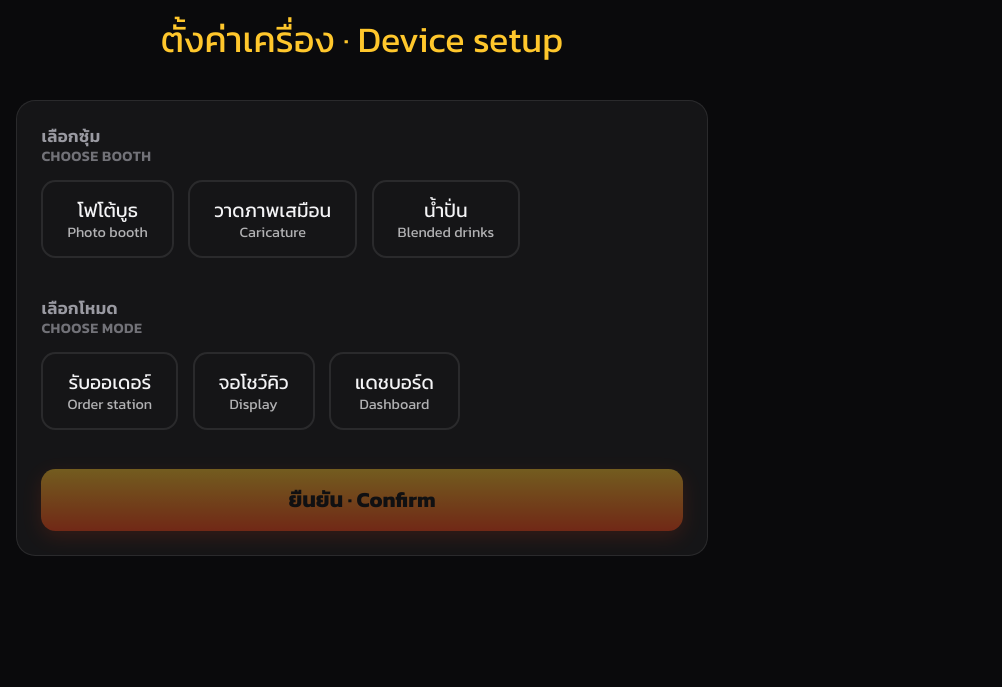
Test: dashboard mode shows the PIN gate
Click the button "โฟโต้บูธ Photo booth" at x=108, y=219, box [41,180,174,258]
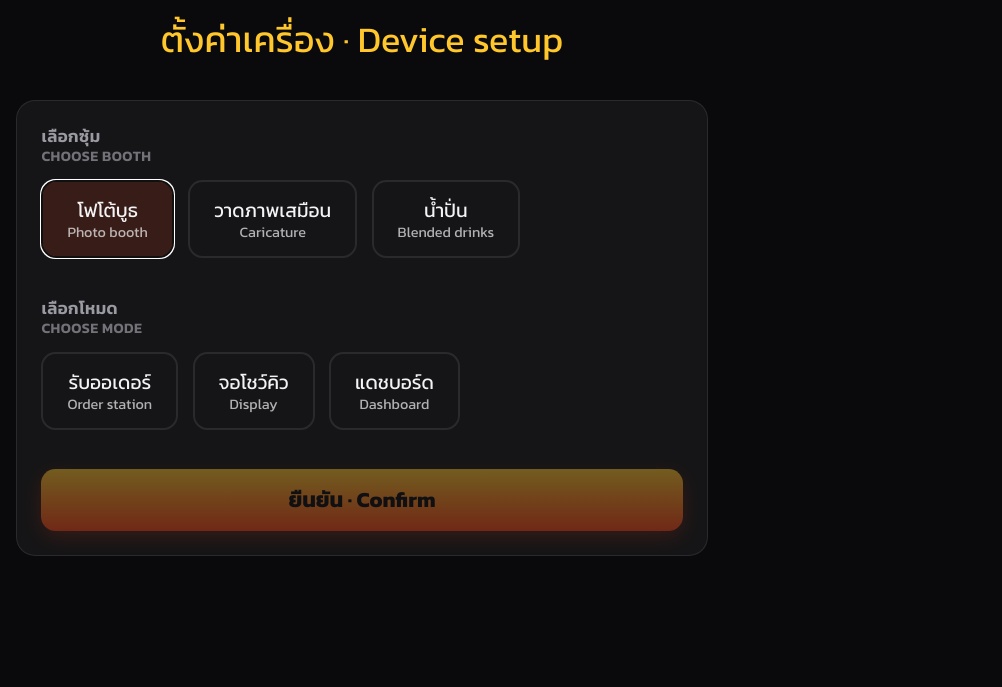
Click the button "แดชบอร์ด Dashboard" at x=394, y=391, box [329,352,460,430]
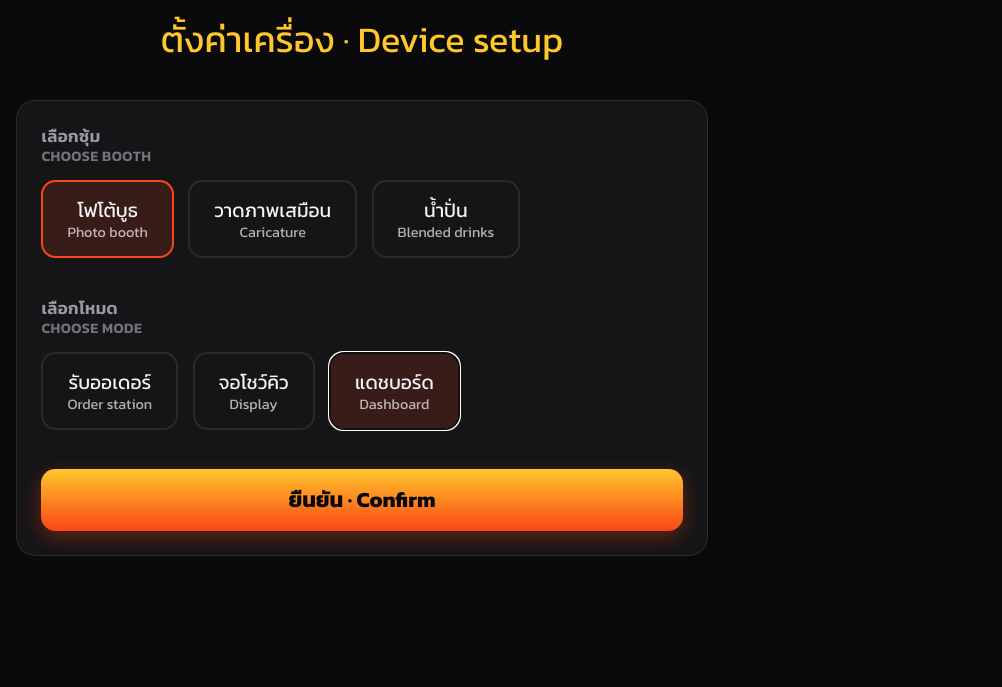
Click the button "ยืนยัน · Confirm" at x=362, y=500, box [41,469,683,531]
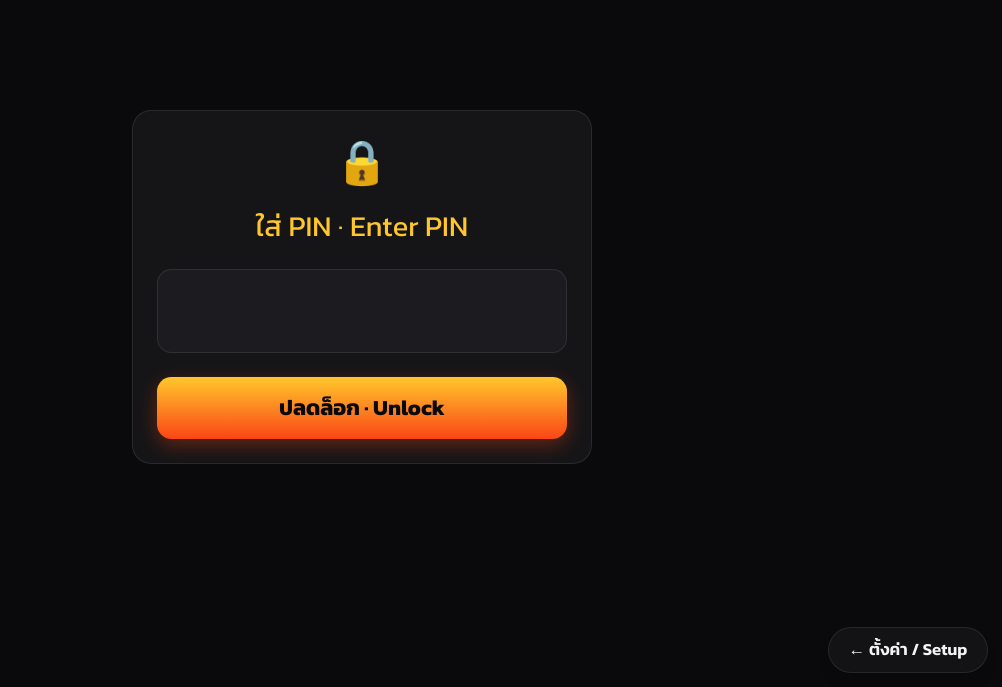
Now the heading "ใส่ PIN · Enter PIN" is shown, box [256,207,468,245]
